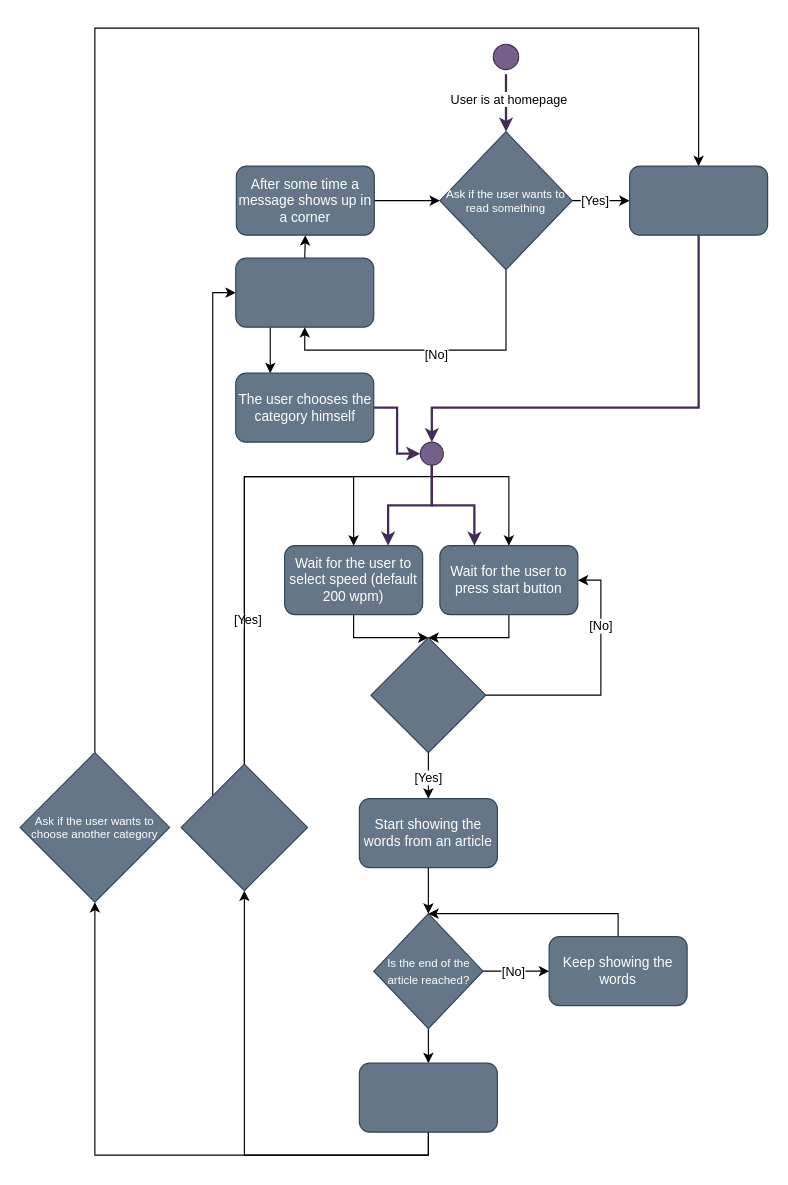
Image size: 788x1185. Some labels were removed from this diagram. The shapes that lost their labels are listed below. From the top down, each one's box as (x1, y1, x2, y2) in pixels, then its label:
(628, 165, 768, 235): Wait for the user to choose a category
(235, 257, 374, 327): Return to homepage
(370, 637, 486, 753): Is the start button pressed?
(180, 763, 308, 891): Ask if the user wants to read another article
(358, 1062, 497, 1132): Give the user a test from the article
